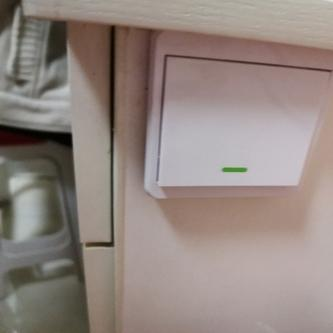switch: (153, 47, 324, 193)
